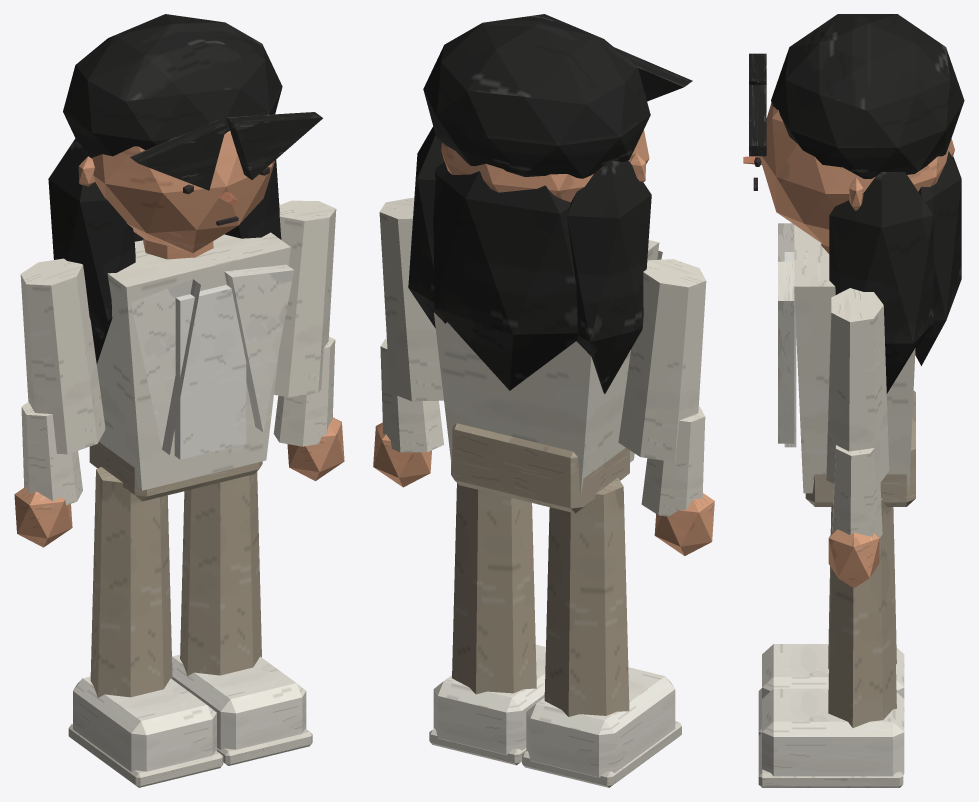
The model's file is person_05.glb.
The picture shows the model from 3 angles, left to right: view 1: azimuth 30°, elevation 25°; view 2: azimuth 150°, elevation 25°; view 3: azimuth 270°, elevation 25°; orthographic projection. The views are drawn at different scales.
Visible parts, largest first — view 1: GEO_Hair_Cap, GEO_Torso, GEO_PantsLeg_L, GEO_PantsLeg_R, GEO_UpperArm_L, GEO_Head, GEO_Inner_Shirt, GEO_Shoe_L, GEO_UpperArm_R, GEO_Hair_Long_L, GEO_Shoe_R, GEO_Jacket_Lapel_R (+12 smaller); view 2: GEO_Hair_Cap, GEO_Hair_Long_Back, GEO_PantsLeg_L, GEO_PantsLeg_R, GEO_Torso, GEO_Hair_Long_L, GEO_UpperArm_L, GEO_Shoe_L, GEO_Waist, GEO_UpperArm_R, GEO_Shoe_R, GEO_Forearm_L (+8 smaller); view 3: GEO_Hair_Cap, GEO_Hair_Long_R, GEO_Torso, GEO_PantsLeg_R, GEO_Shoe_R, GEO_UpperArm_R, GEO_Head, GEO_Hair_Long_Back, GEO_Forearm_R, GEO_Shoe_L, GEO_Jacket_Lapel_R, GEO_Hand_R (+7 smaller).
Boxes of the visible parts, bbox=[...] form: GEO_Hair_Cap: bbox=[63, 14, 282, 157]; GEO_Torso: bbox=[97, 232, 290, 490]; GEO_PantsLeg_L: bbox=[90, 467, 172, 697]; GEO_PantsLeg_R: bbox=[180, 472, 261, 675]; GEO_UpperArm_L: bbox=[20, 258, 105, 454]; GEO_Head: bbox=[91, 131, 275, 252]; GEO_Inner_Shirt: bbox=[174, 284, 246, 459]; GEO_Shoe_L: bbox=[73, 676, 216, 771]; GEO_UpperArm_R: bbox=[274, 200, 336, 397]; GEO_Hair_Long_L: bbox=[48, 138, 135, 364]; GEO_Shoe_R: bbox=[172, 654, 306, 749]; GEO_Jacket_Lapel_R: bbox=[224, 264, 294, 432]; GEO_Hair_Cap: bbox=[423, 14, 650, 178]; GEO_Hair_Long_Back: bbox=[433, 162, 578, 390]; GEO_PantsLeg_L: bbox=[544, 478, 629, 716]; GEO_PantsLeg_R: bbox=[452, 483, 536, 694]; GEO_Torso: bbox=[434, 240, 659, 498]; GEO_Hair_Long_L: bbox=[567, 160, 651, 393]; GEO_UpperArm_L: bbox=[618, 259, 706, 462]; GEO_Shoe_L: bbox=[526, 667, 675, 777]; GEO_Waist: bbox=[451, 423, 629, 513]; GEO_UpperArm_R: bbox=[379, 198, 443, 401]; GEO_Shoe_R: bbox=[433, 644, 545, 755]; GEO_Forearm_L: bbox=[641, 406, 705, 516]; GEO_Hair_Cap: bbox=[771, 14, 964, 178]; GEO_Hair_Long_R: bbox=[829, 172, 933, 393]; GEO_Torso: bbox=[794, 225, 915, 493]; GEO_PantsLeg_R: bbox=[828, 498, 896, 727]; GEO_Shoe_R: bbox=[762, 688, 904, 776]; GEO_UpperArm_R: bbox=[826, 288, 889, 487]; GEO_Head: bbox=[759, 102, 954, 246]; GEO_Hair_Long_Back: bbox=[915, 151, 961, 365]; GEO_Forearm_R: bbox=[832, 445, 882, 538]; GEO_Shoe_L: bbox=[762, 644, 904, 698]; GEO_Jacket_Lapel_R: bbox=[778, 261, 794, 443]; GEO_Hand_R: bbox=[828, 529, 879, 587].
Size of the model in its own units: 0.8518 by 1.77 by 0.4907.
1 material, 1 textured.
